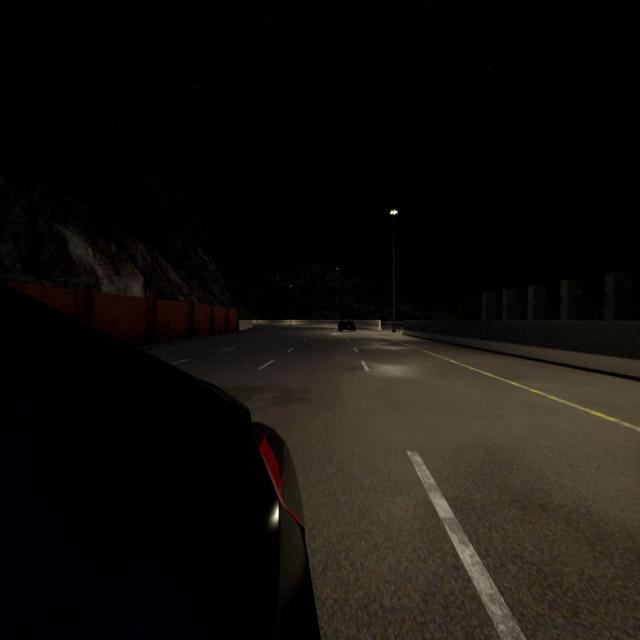Vehicle: (0, 295, 318, 640), (338, 317, 356, 332)
